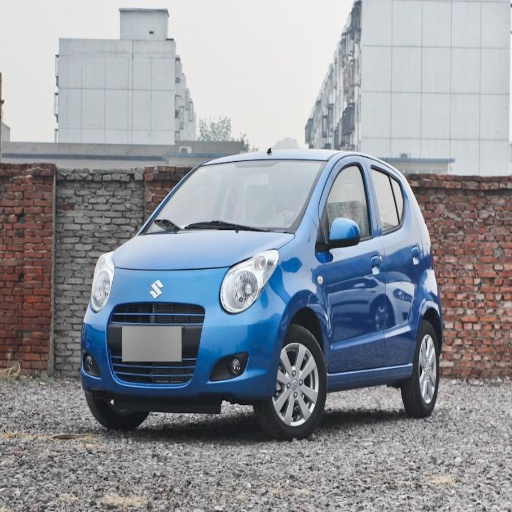front_bumper: (85, 266, 285, 401)
front_glass: (171, 160, 324, 232)
front_left_door: (317, 157, 385, 374)
